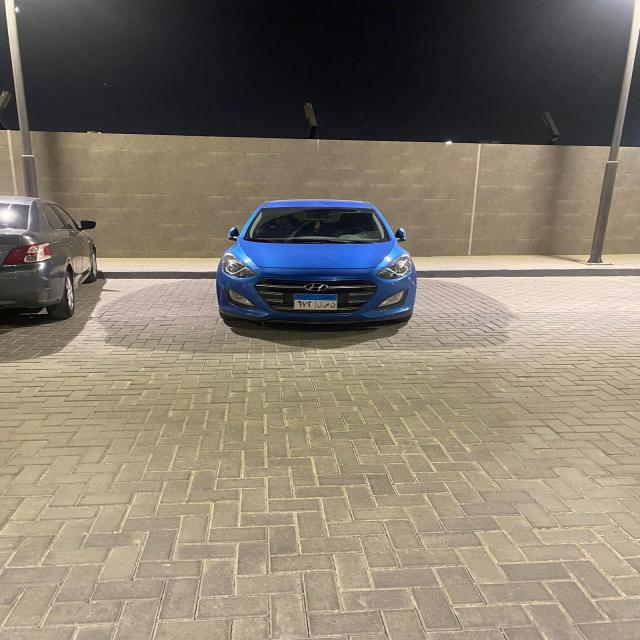car-plate: (295, 294, 338, 310)
